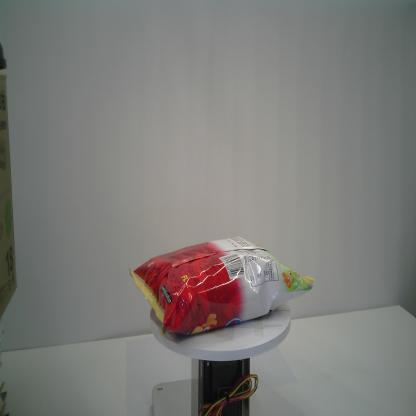Puffed Food: (130, 237, 316, 336)
